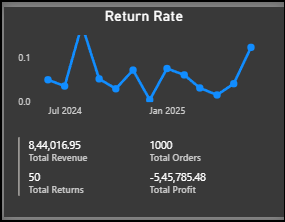

The dashboard page shown, as its layout file describes it:
{"tool":"powerbi","page":{"name":"Tool Tip","canvas":[320,240],"ordinal":2},"visuals":[{"type":"multiRowCard","fields":{"Values":["Measure.Total Revenue","Measure.Total Orders","Measure.Total Returns","Measure.Total Profit"]},"box":[11,144,298,85],"z":0},{"type":"lineChart","title":"Return Rate","fields":{"Category":["Date_Dim.Date.Variation.Date Hierarchy.Year","Date_Dim.Date.Variation.Date Hierarchy.Quarter","Date_Dim.Date.Variation.Date Hierarchy.Month"],"Y":["Measure.Return Rate"]},"box":[11.5,0,297,135.9],"z":1000}]}

Visuals, with their boxes on the page's 320x240 design canvas (x1, y1, x2, y2). These are canvas units, not pixel positions in the 285x222 screenshot, which may show the page scaled, cropped or inside an application window:
multiRowCard - Measure.Total Revenue x Measure.Total Orders: select_region(11, 144, 309, 229)
"Return Rate" lineChart: select_region(12, 0, 308, 136)
